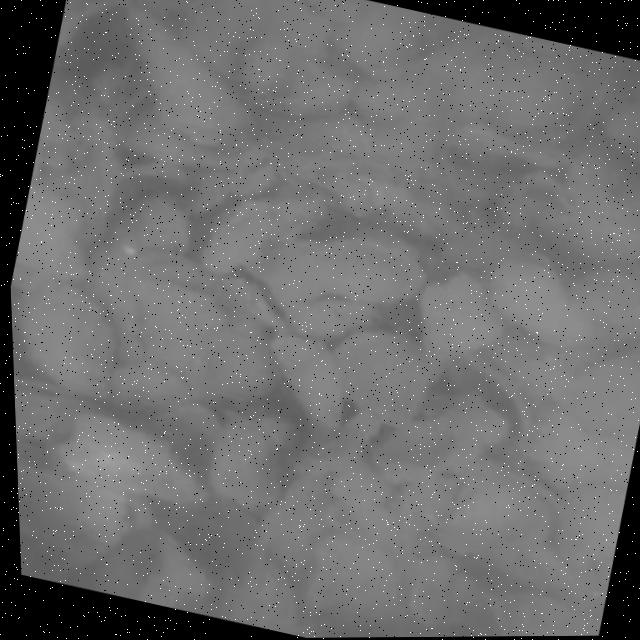Oyster-Closed: (445, 122, 574, 172), (214, 268, 286, 336)
Oyster-Indeterminate: (127, 12, 251, 145), (57, 416, 216, 503), (17, 461, 136, 569), (19, 282, 112, 400), (365, 400, 500, 480), (111, 101, 269, 165), (258, 238, 416, 302), (489, 258, 590, 348), (447, 354, 530, 463), (337, 329, 427, 425), (441, 474, 547, 555), (204, 198, 328, 267), (212, 415, 294, 512), (306, 535, 397, 616), (527, 400, 601, 491), (420, 274, 499, 359), (271, 339, 341, 428), (535, 210, 640, 269), (252, 59, 354, 118), (447, 565, 520, 637), (554, 486, 618, 568), (209, 328, 277, 401), (54, 4, 128, 68), (117, 192, 191, 255), (145, 533, 214, 597), (110, 361, 184, 415), (161, 401, 212, 460), (411, 582, 457, 627)
